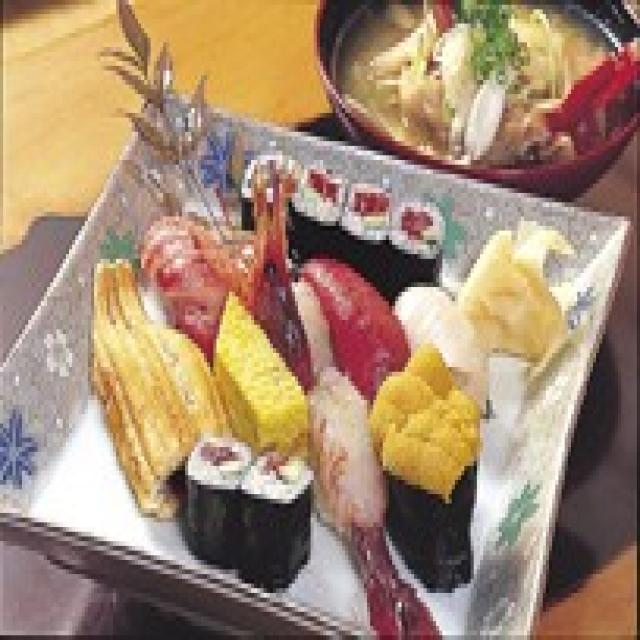寿司卷物: (62, 122, 564, 588)
